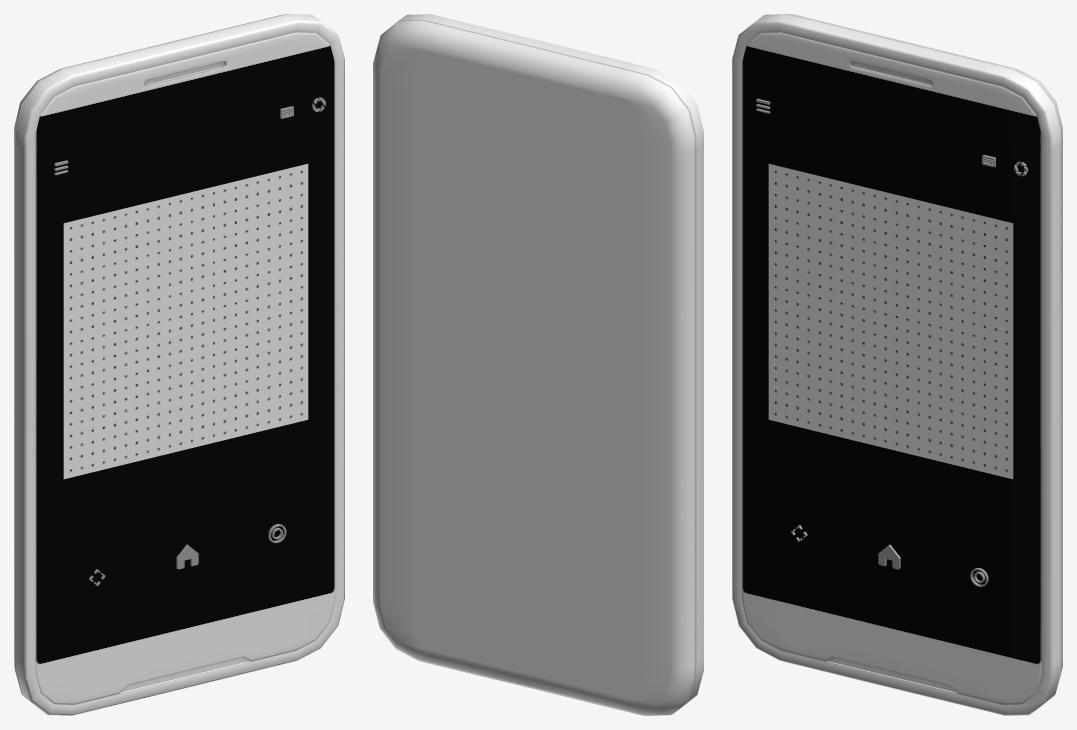
File: MobileDevice.fbx
3 renders of one model, left to right at view 1: azimuth 30°, elevation 25°; view 2: azimuth 150°, elevation 25°; view 3: azimuth 330°, elevation 25°, orthographic.
Visible parts, largest first — view 1: MobileDevice_Geo, Dot_Grid_Geo; view 2: MobileDevice_Geo; view 3: MobileDevice_Geo, Dot_Grid_Geo.
Part boxes in pixels (<box>): MobileDevice_Geo: <box>14,14,344,715</box>; Dot_Grid_Geo: <box>63,164,308,479</box>; MobileDevice_Geo: <box>373,14,703,715</box>; MobileDevice_Geo: <box>732,14,1062,715</box>; Dot_Grid_Geo: <box>768,164,1013,479</box>.
Size of the model in its own units: 11.87 by 22.62 by 1.36.
